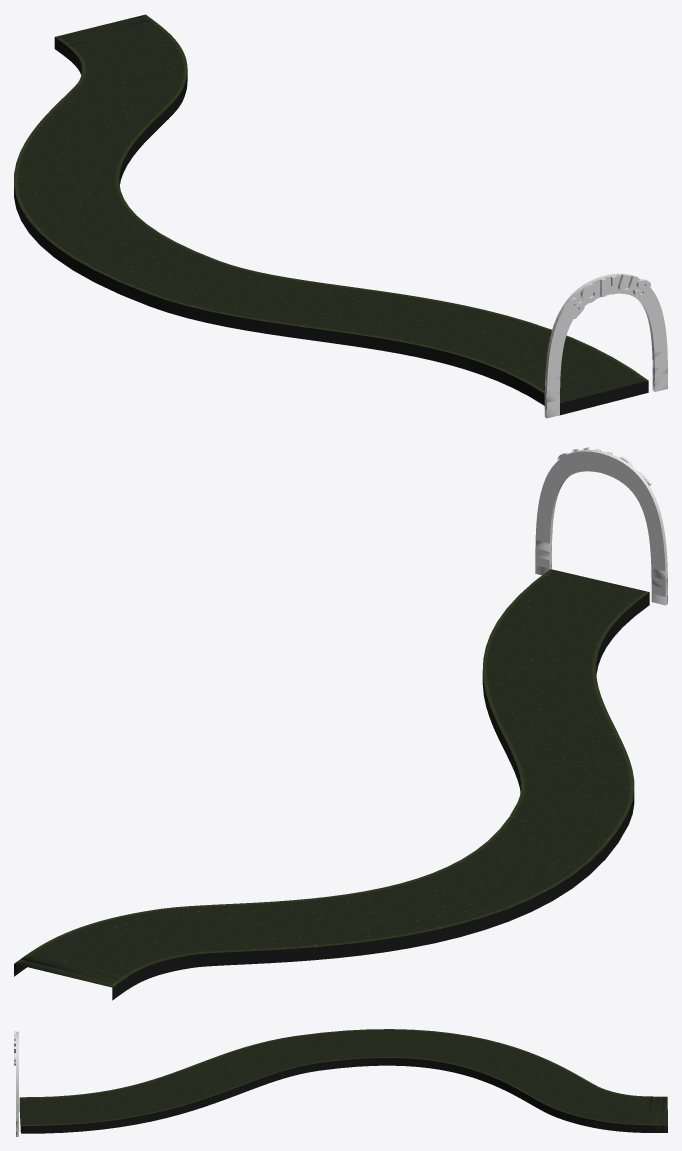
The model's file is bonus track.FBX.
The picture shows the model from 3 angles, top to bottom: view 1: azimuth 30°, elevation 25°; view 2: azimuth 150°, elevation 25°; view 3: azimuth 270°, elevation 25°; orthographic projection. The views are drawn at different scales.
Visible parts, largest first — view 1: Line002, Line003, Object001; view 2: Line002, Line003; view 3: Line002, Line003.
Boxes of the visible parts, x1,y1,x2,y2 form: Line002: (14, 14, 648, 415); Line003: (544, 273, 667, 418); Object001: (563, 274, 650, 318); Line002: (14, 569, 649, 1000); Line003: (535, 449, 667, 605); Line002: (19, 1029, 667, 1133); Line003: (16, 1031, 18, 1136).
Size of the model in its own units: 219 by 595 by 84.06.
2 materials, 1 textured.
